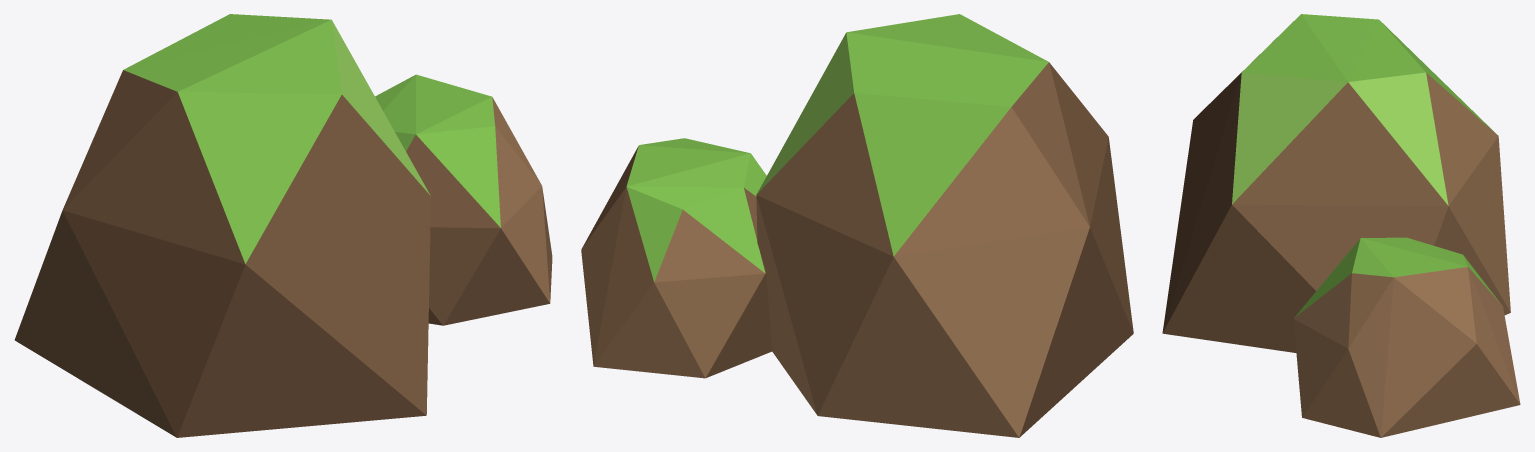
The model's file is rock_smallD.glb.
3 views of the same model, side by side, from view 1: azimuth 30°, elevation 25°; view 2: azimuth 150°, elevation 25°; view 3: azimuth 270°, elevation 25° (orthographic). The views are drawn at different scales.
Parts seen in each view (by area): view 1: rock_smallD; view 2: rock_smallD; view 3: rock_smallD.
Part boxes in pixels (x1,y1,x2,y2): rock_smallD: (14,14,552,437); rock_smallD: (581,14,1133,437); rock_smallD: (1162,14,1520,437).
Bounding box in the file's own units: 0.374 × 0.2211 × 0.2779.
1 material, 1 textured.
